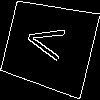V: (24, 21, 75, 65)
